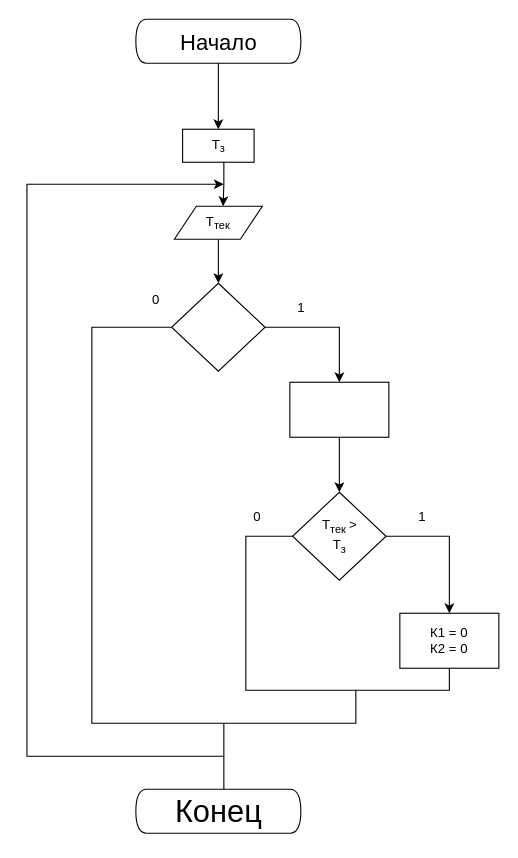
This 518x858 diagram has some shape labels left out. The shapes that lost their labels are listed below. From the top down, each one's centre as x and y in pixels, then its label:
(217,326): Т тек < T з
(339,409): К1 = 1 К2 = 1
